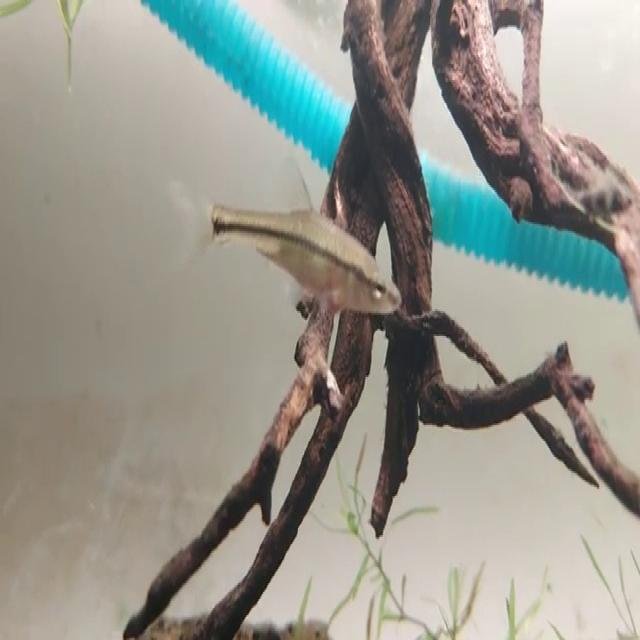Cakil Baligi: (178, 182, 400, 322)
